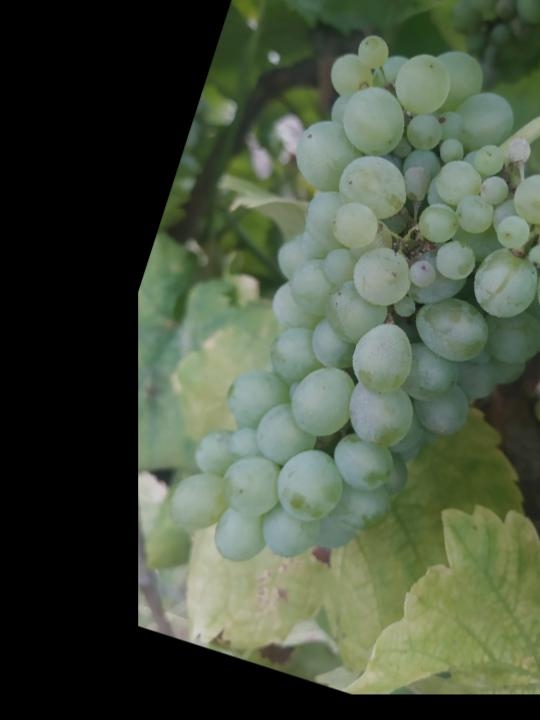grape: (156, 5, 540, 652)
